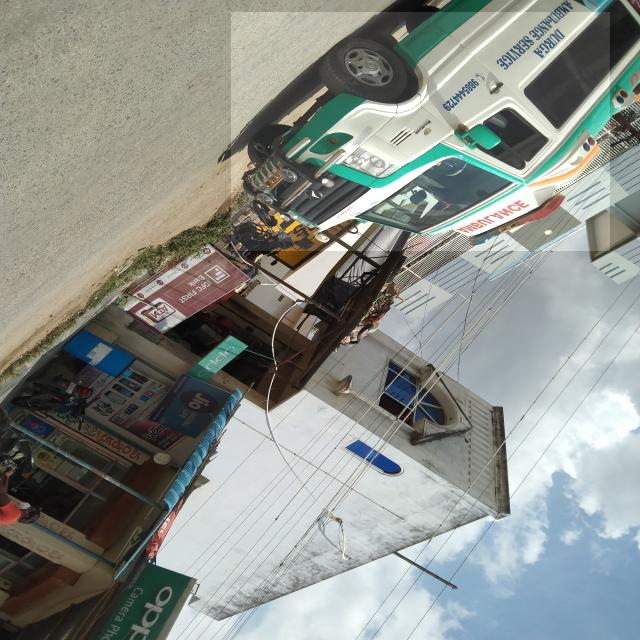Travller: (231, 12, 610, 251)
